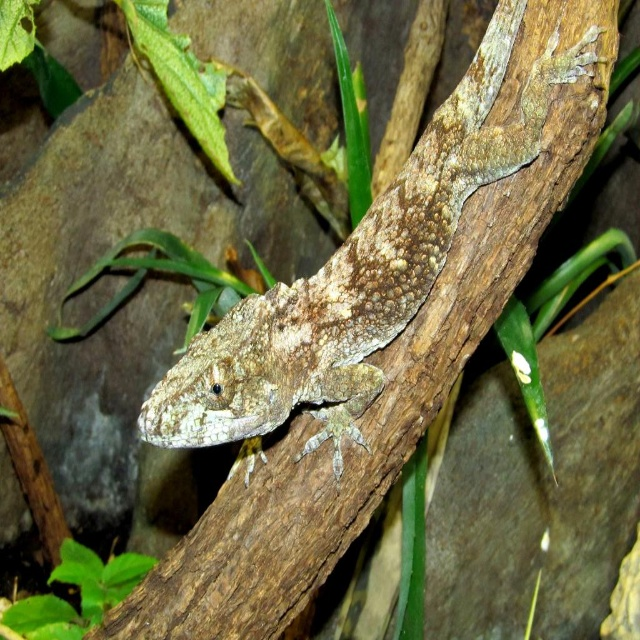Lizard: (137, 0, 607, 496)
